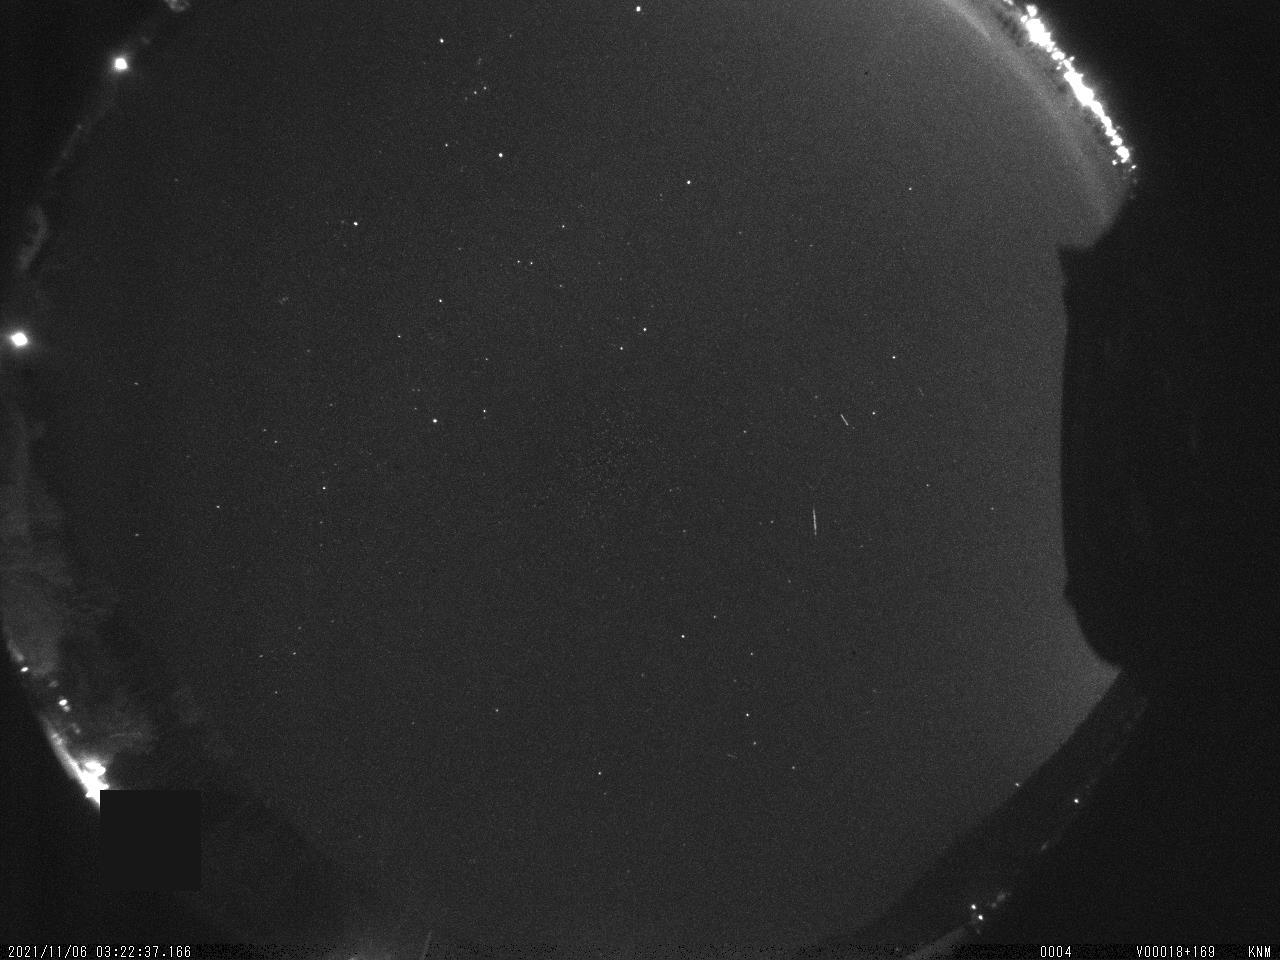meteor: (805, 498, 825, 543)
